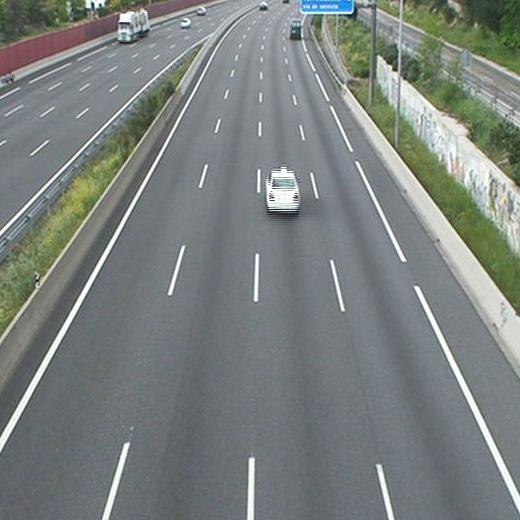car: (266, 168, 302, 215)
van: (290, 19, 302, 40)
